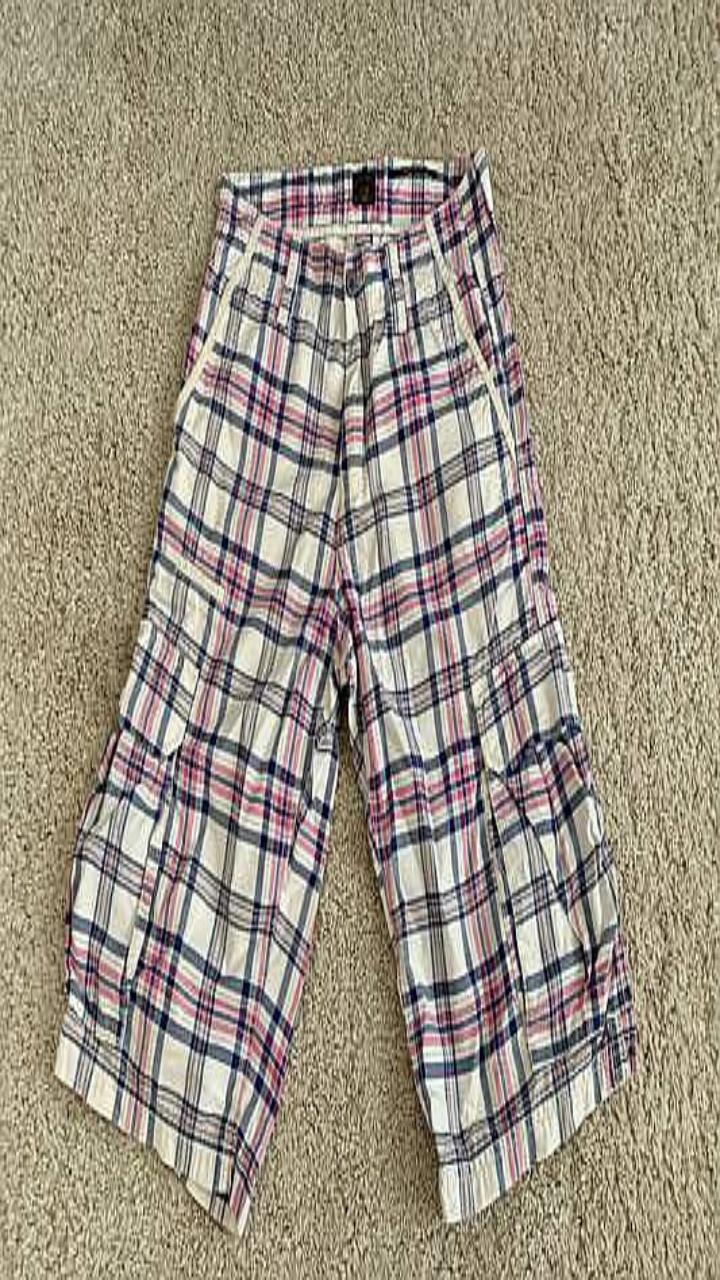Shorts: (55, 150, 636, 1232)
